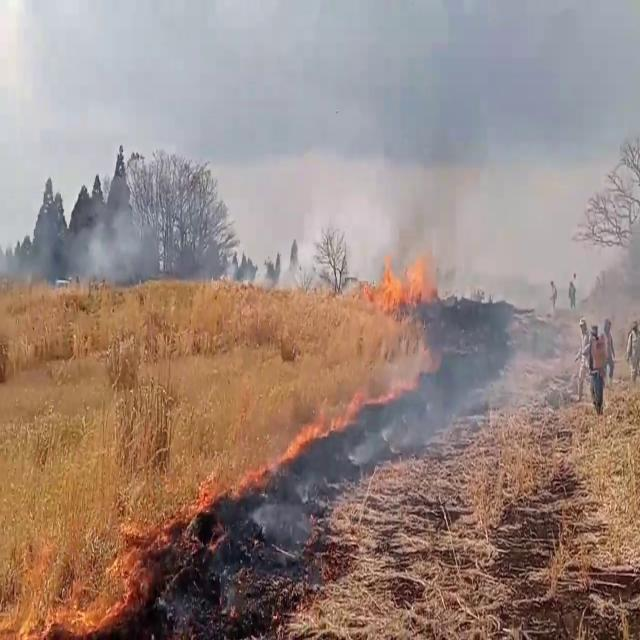Fire: (62, 527, 140, 640), (286, 391, 366, 458), (362, 250, 432, 311)
Smoke: (55, 203, 164, 300)
